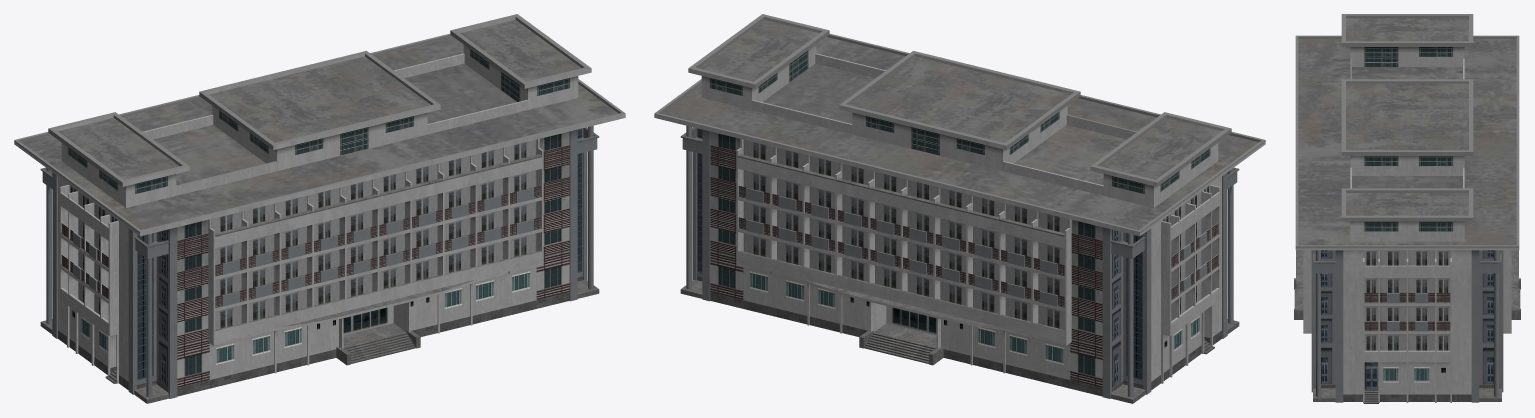
3 views of the same model, side by side, from view 1: azimuth 30°, elevation 25°; view 2: azimuth 150°, elevation 25°; view 3: azimuth 270°, elevation 25° (orthographic). The views are drawn at different scales.
Parts seen in each view (by area): view 1: HN1331_NhaKhachChuyenGia; view 2: HN1331_NhaKhachChuyenGia; view 3: HN1331_NhaKhachChuyenGia.
Boxes of the visible parts, x1,y1,x2,y2 form: HN1331_NhaKhachChuyenGia: [14, 14, 625, 403]; HN1331_NhaKhachChuyenGia: [654, 14, 1265, 403]; HN1331_NhaKhachChuyenGia: [1294, 14, 1520, 403].
Size of the model in its own units: 58 by 24.14 by 26.36.
Materials: 1 (1 with a texture image).
